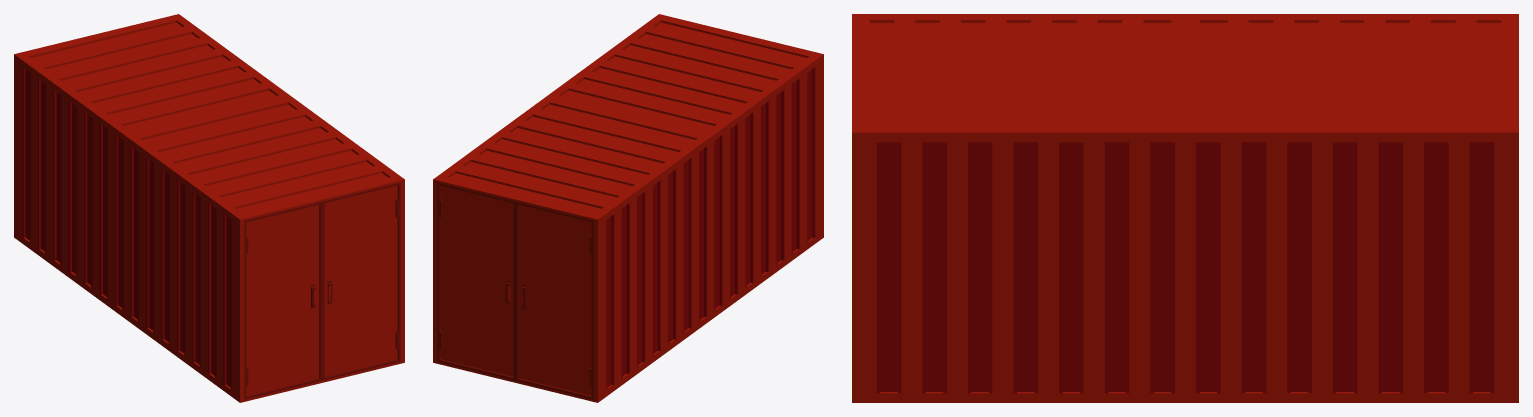
Rendered from Container_red.vox.obj.
3 renders of one model, left to right at view 1: azimuth 30°, elevation 25°; view 2: azimuth 150°, elevation 25°; view 3: azimuth 270°, elevation 25°, orthographic. The views are drawn at different scales.
Bounding box in the file's own units: 8 × 8.5 × 19.
Materials: 1 (1 with a texture image).
